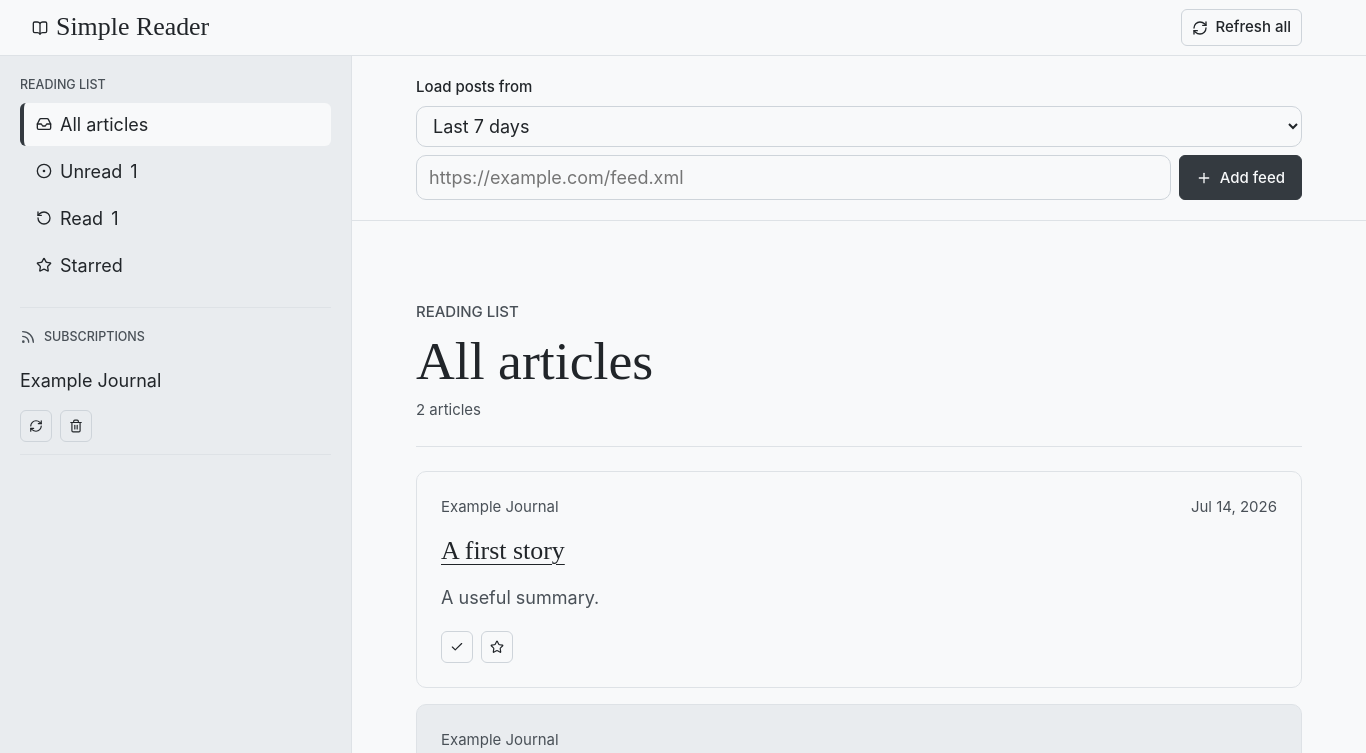
Test: ReaderApp › announces a failed article-state update without changing cached state
Click the button named "Mark A first story as read": (457, 647) [441,631,473,663]
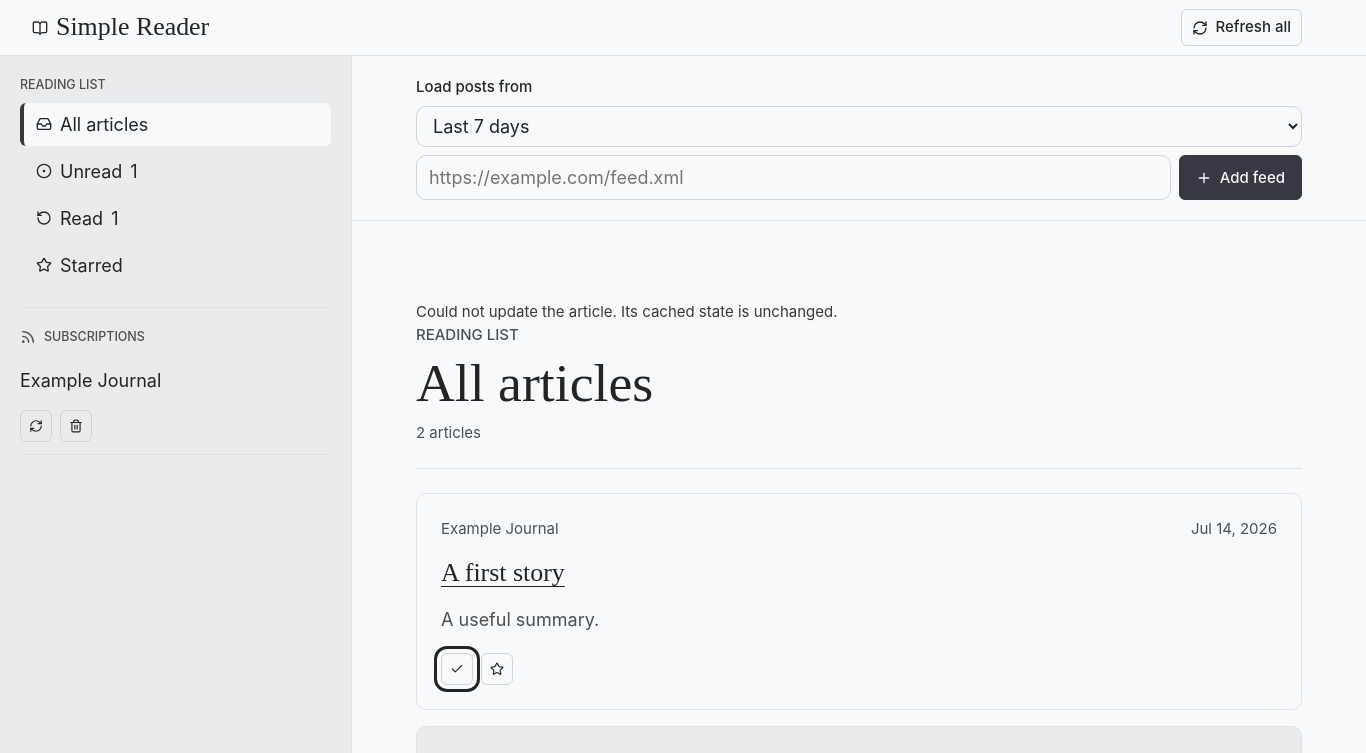
Expected: the button named "Mark A first story as read" is shown, [441,653,473,685]
Now the message shows "Could not update the article", box [416,302,838,322]
